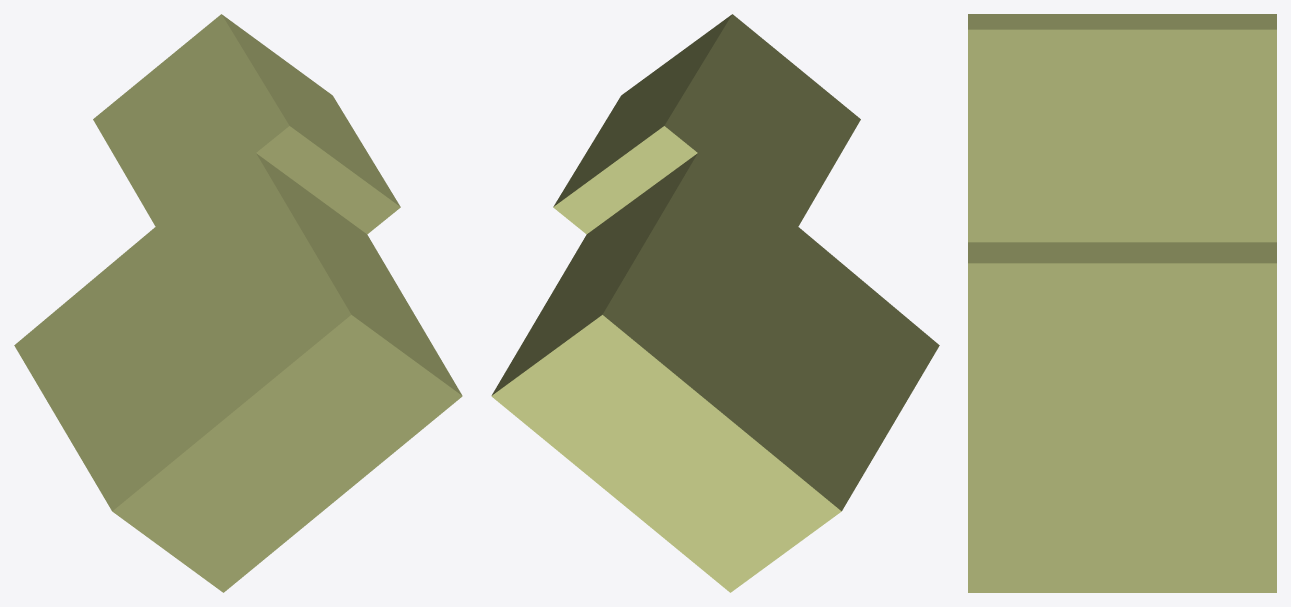
The picture shows the model from 3 angles, left to right: view 1: azimuth 30°, elevation 25°; view 2: azimuth 150°, elevation 25°; view 3: azimuth 270°, elevation 25°; orthographic projection. The views are drawn at different scales.
Visible parts, largest first — view 1: 0_0_1_2_0_0_0_3_2_2_3; view 2: 0_0_1_2_0_0_0_3_2_2_3; view 3: 0_0_1_2_0_0_0_3_2_2_3.
Boxes of the visible parts, x1,y1,x2,y2 form: 0_0_1_2_0_0_0_3_2_2_3: (14, 14, 462, 592); 0_0_1_2_0_0_0_3_2_2_3: (491, 14, 939, 592); 0_0_1_2_0_0_0_3_2_2_3: (968, 14, 1276, 592).
Bounding box in the file's own units: 10.49 × 14 × 6.
